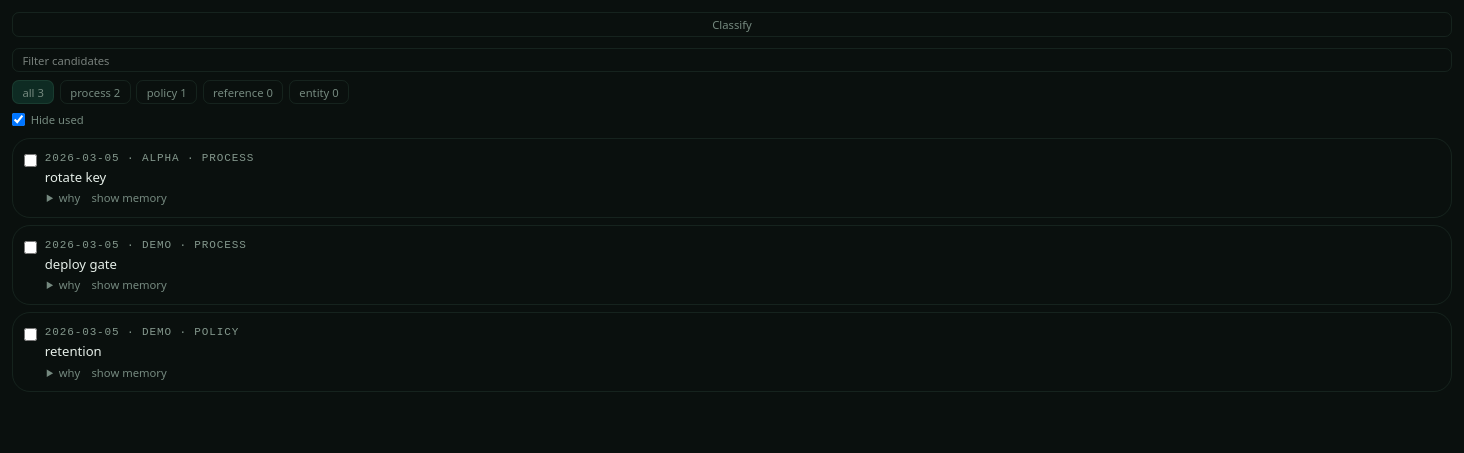
Test case: WikiCandidates › sticky bar shows the count and clears
Expected: the text "selected" is not shown
Click the checkbox named "Select c" at (31, 335), box [24,328,37,341]
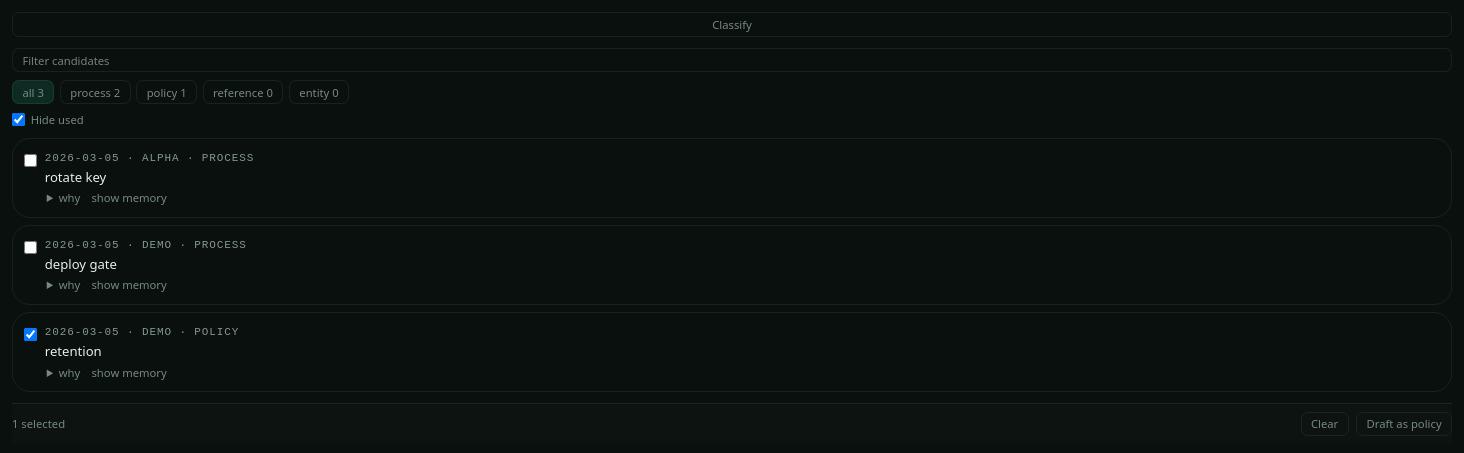
Expected: the text "1 selected" is shown, [12,416,65,431]
Click the button "Clear" at (1325, 424), box [1301,412,1349,436]
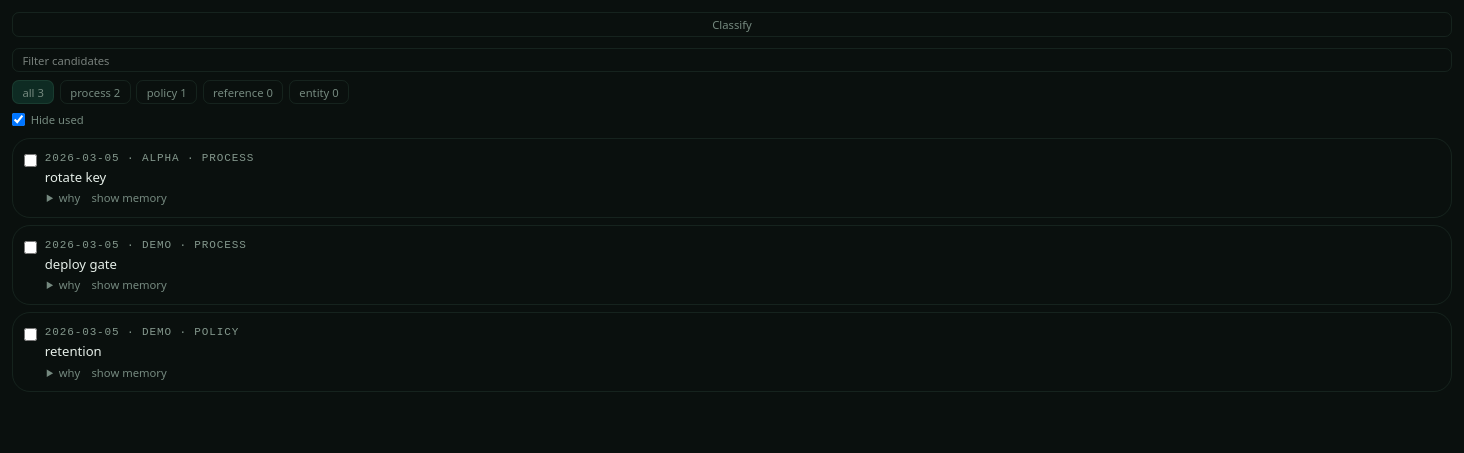
Expected: the text "1 selected" is gone
